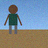person: (4, 5, 21, 34)
